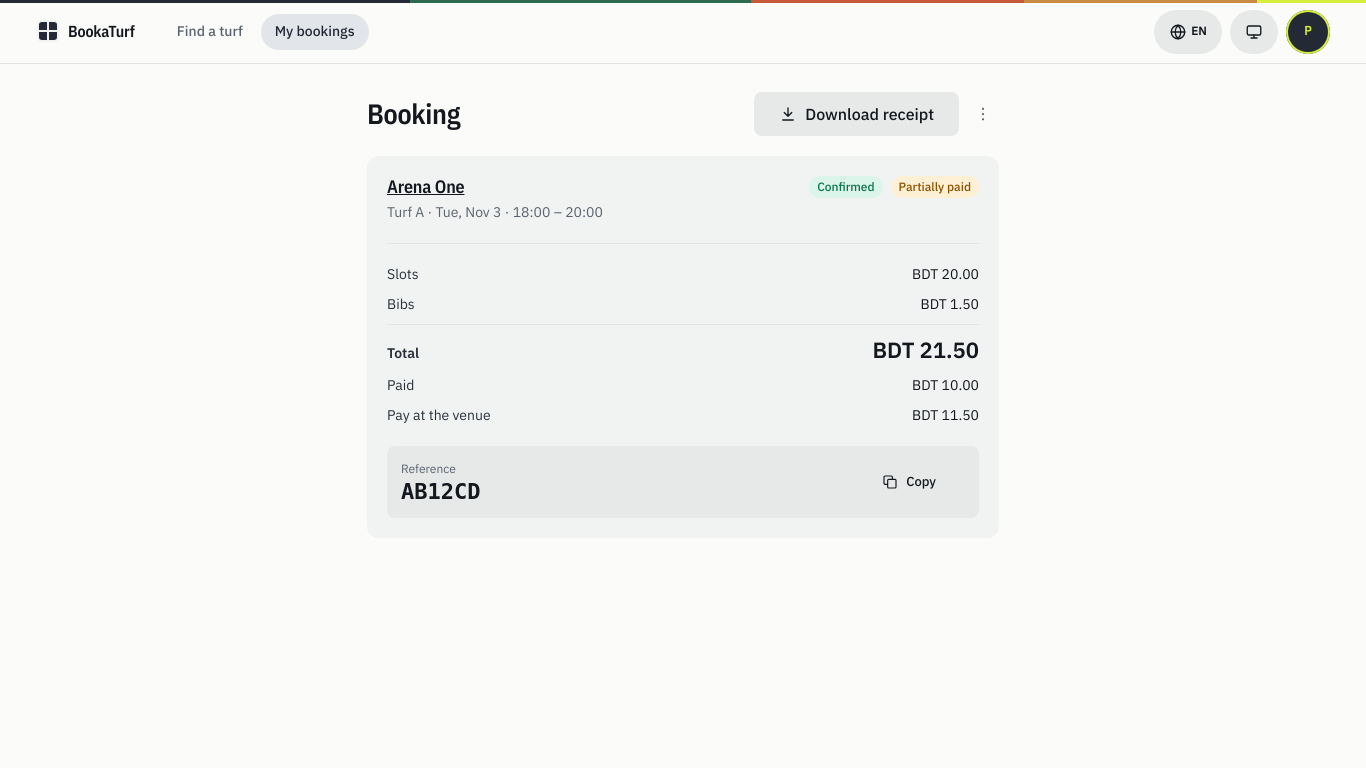
it: booking detail › a failed PDF says so
Click the button "Download receipt": point(857, 114) [754, 92, 959, 136]
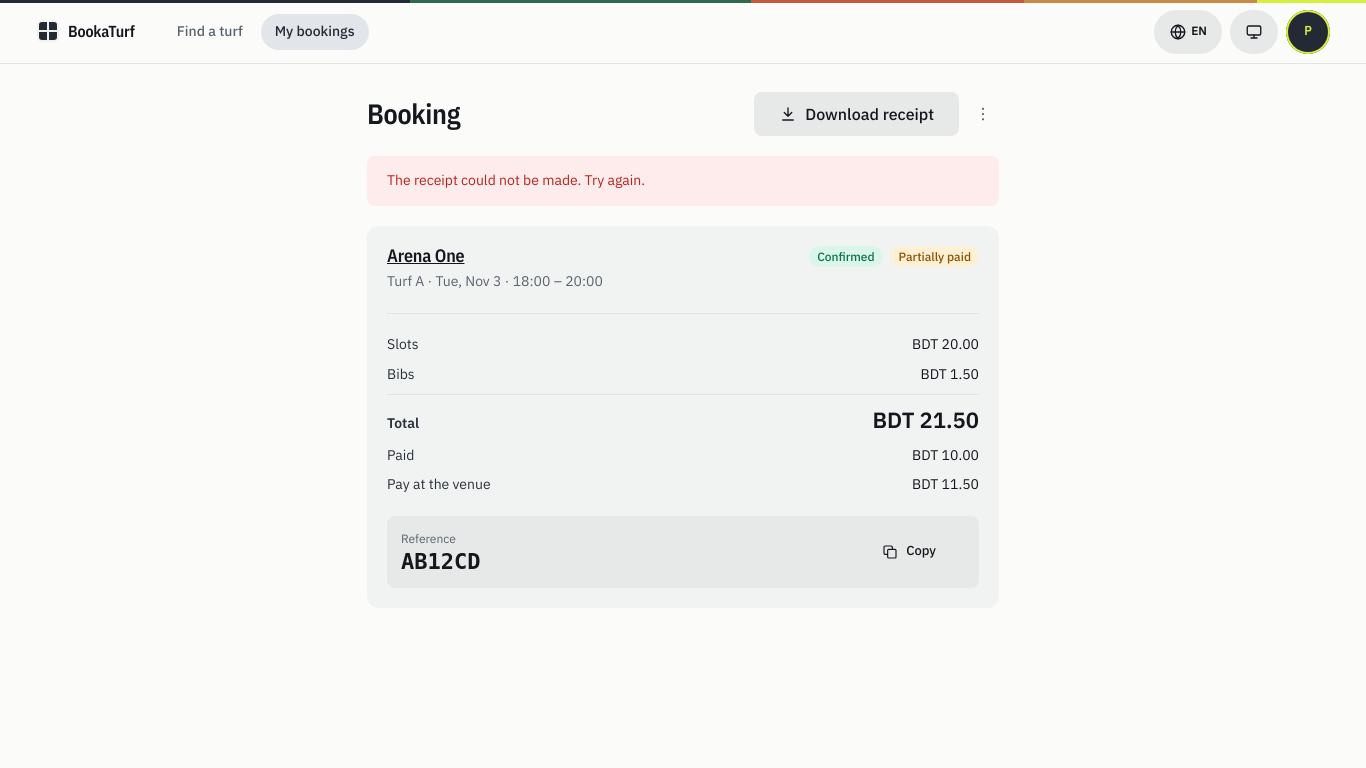
Now the text "The receipt could not be made. Try again." is shown, box [387, 170, 645, 192]
